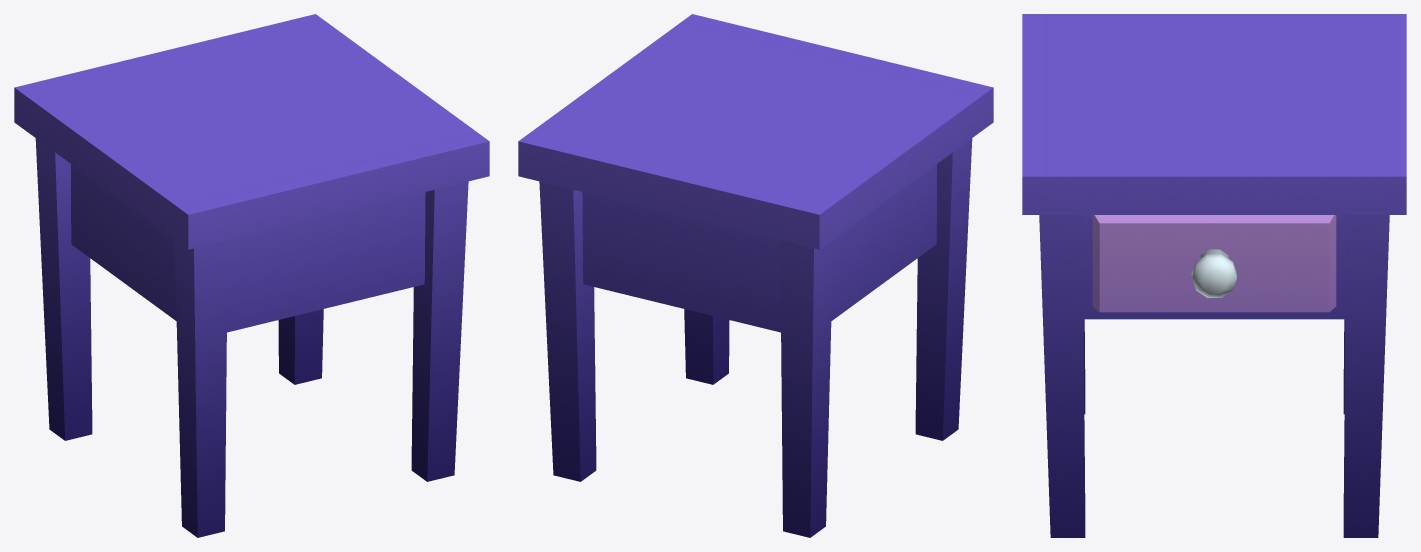
File: Nightstand.fbx
The picture shows the model from 3 angles, left to right: view 1: azimuth 30°, elevation 25°; view 2: azimuth 150°, elevation 25°; view 3: azimuth 270°, elevation 25°; orthographic projection. The views are drawn at different scales.
Parts seen in each view (by area): view 1: Nightstand.002; view 2: Nightstand.002; view 3: Nightstand.002.
Boxes of the visible parts, x1,y1,x2,y2 form: Nightstand.002: [14, 14, 489, 537]; Nightstand.002: [518, 14, 993, 537]; Nightstand.002: [1022, 14, 1406, 537].
Bounding box in the file's own units: 107 × 107 × 100.
